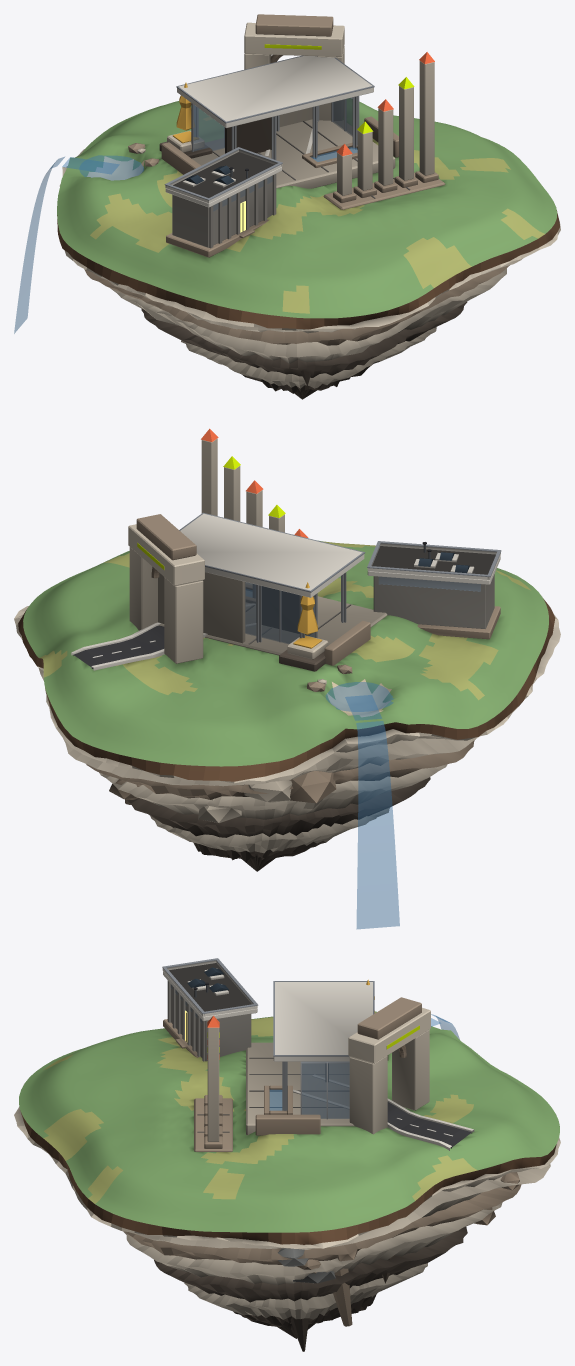
The model's file is resume.glb.
3 renders of one model, top to bottom at view 1: azimuth 30°, elevation 25°; view 2: azimuth 150°, elevation 25°; view 3: azimuth 270°, elevation 25°, orthographic. The views are drawn at different scales.
Parts seen in each view (by area): view 1: terrain, buildings, foundation, props, landmarks, waterfall_0, water_pond0, water_channel0; view 2: terrain, foundation, buildings, landmarks, waterfall_0, props, water_pond0, water_channel0, anim_spin_monument_spire; view 3: terrain, foundation, buildings, landmarks, props.
Part boxes in pixels (x1,y1,x2,y2): terrain: (57,98,557,318); buildings: (159,56,438,257); foundation: (57,149,560,399); props: (128,55,374,248); landmarks: (244,14,434,156); waterfall_0: (14,157,64,333); water_pond0: (79,155,143,180); water_channel0: (62,157,118,173); terrain: (23,540,548,766); foundation: (14,598,560,871); buildings: (158,438,500,671); landmarks: (128,428,308,663); waterfall_0: (356,721,399,929); props: (92,512,501,691); water_pond0: (325,682,393,711); water_channel0: (345,695,381,720); anim_spin_monument_spire: (297,582,317,634); terrain: (19,1011,559,1232); foundation: (14,1106,560,1351); buildings: (162,960,388,1148); landmarks: (207,997,430,1134); props: (162,958,452,1136).
Bounding box in the file's own units: 15.93 × 12.42 × 16.84.
